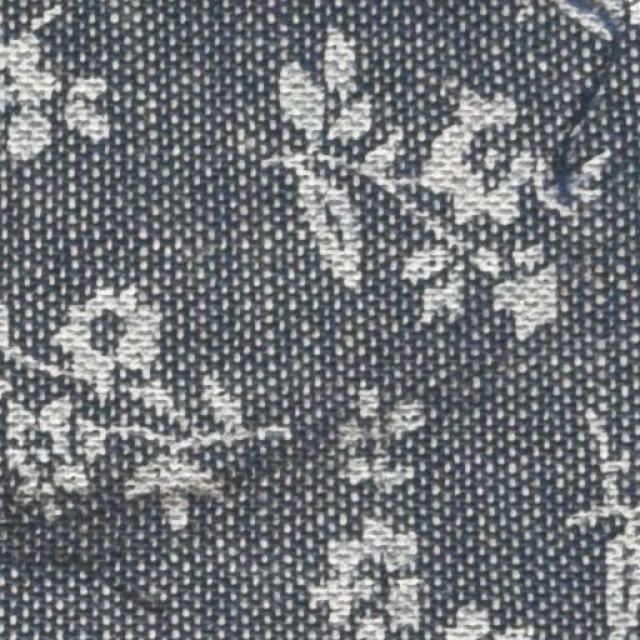Snag: (546, 24, 622, 214)
